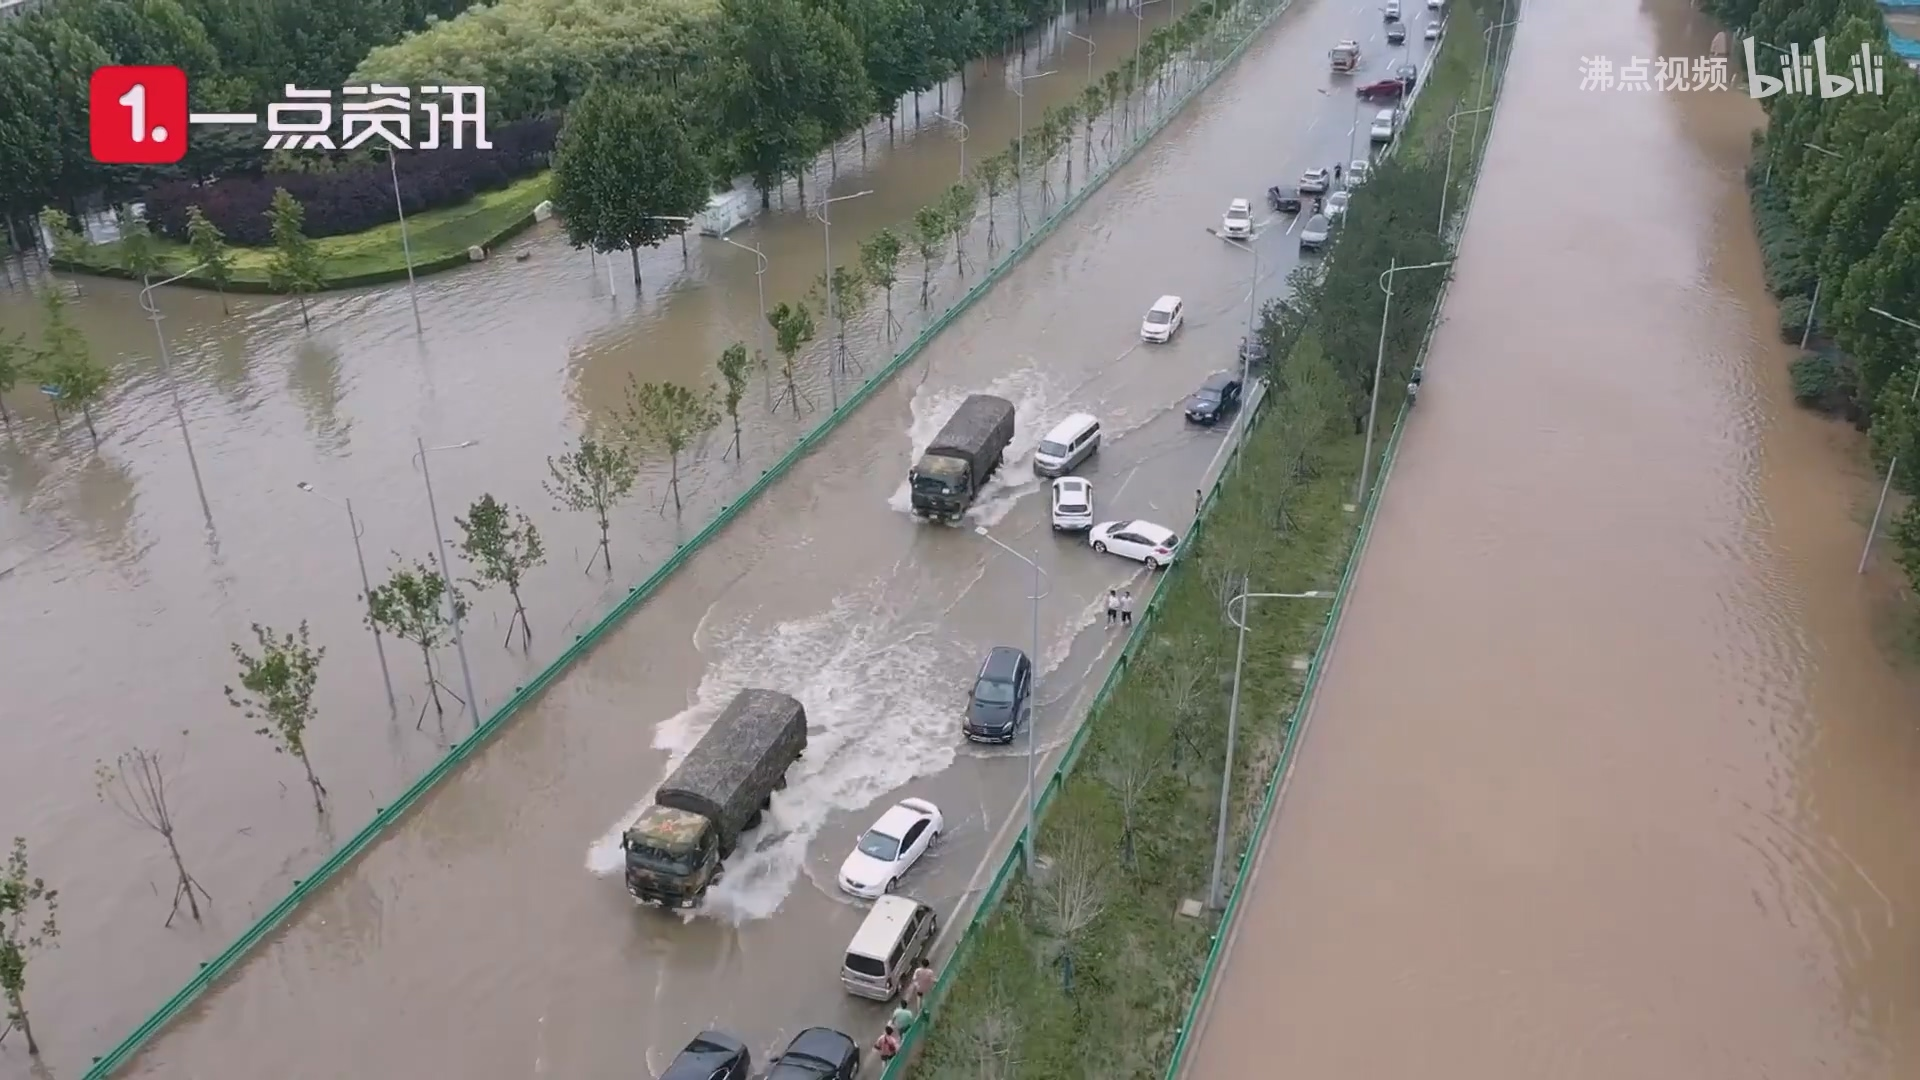puddle: (25, 211, 1026, 1079), (1325, 311, 1920, 1080)
